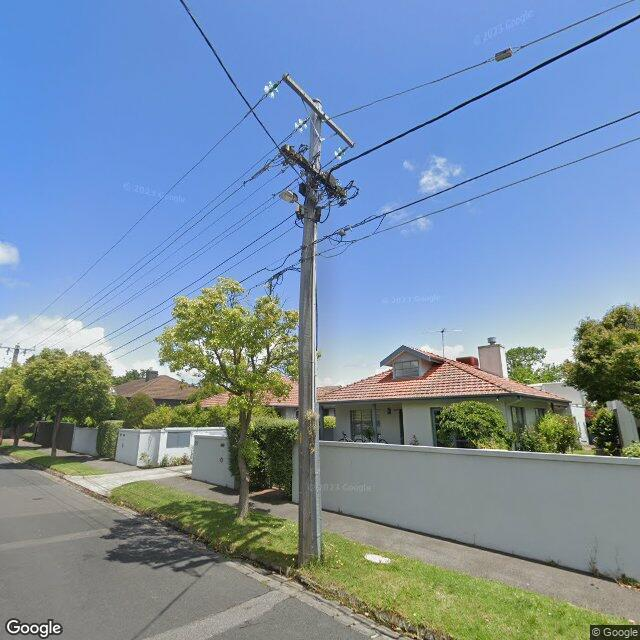HV-transmission: (256, 72, 356, 166), (0, 342, 36, 356)
crossarm: (281, 72, 355, 148), (280, 143, 348, 200), (1, 347, 35, 351)
streetlight: (278, 189, 308, 209)
timber-pole: (297, 98, 324, 567), (12, 342, 20, 446)
